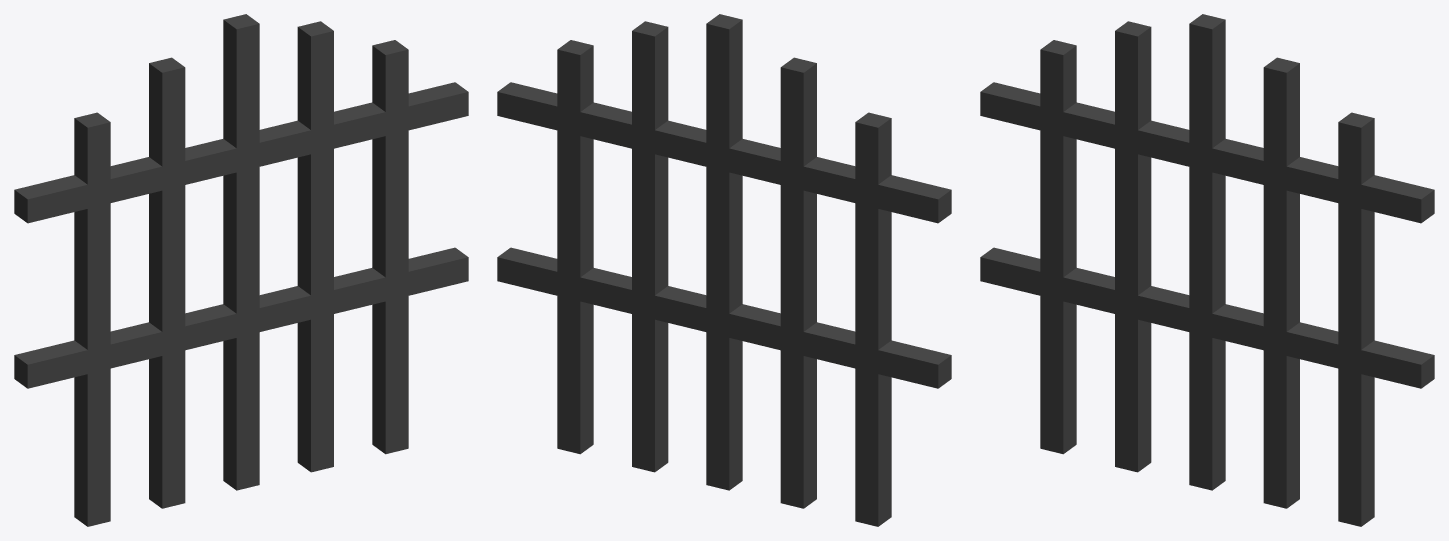
The model's file is Door.fbx.
3 views of the same model, side by side, from view 1: azimuth 30°, elevation 25°; view 2: azimuth 150°, elevation 25°; view 3: azimuth 330°, elevation 25° (orthographic).
Parts seen in each view (by area): view 1: Door; view 2: Door; view 3: Door.
Part boxes in pixels (<box>): Door: <box>14,14,468,526</box>; Door: <box>497,14,951,526</box>; Door: <box>980,14,1434,526</box>.
Size of the model in its own units: 5.35 by 5.35 by 0.2789.
